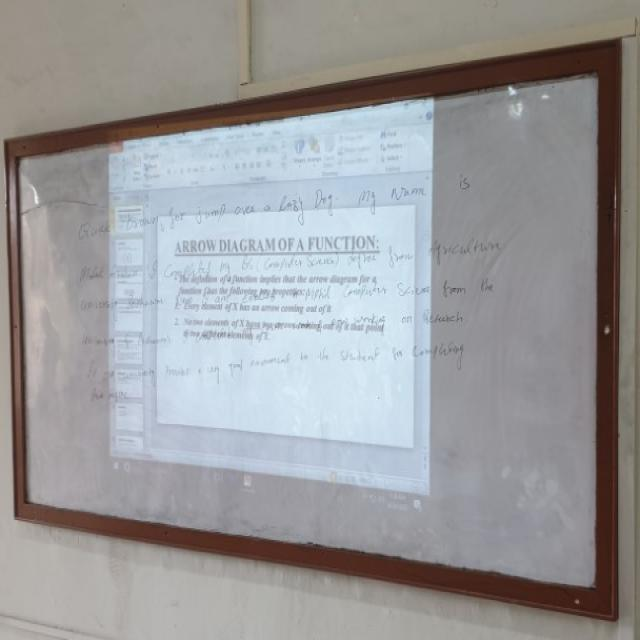Slide: (106, 98, 433, 526)
White-board: (13, 58, 613, 609)
